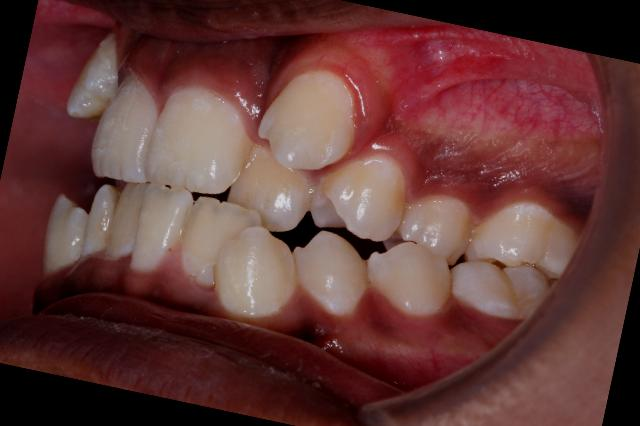canine class II 1/4: (205, 49, 412, 345)
molar class III 1/4: (442, 186, 588, 338)
